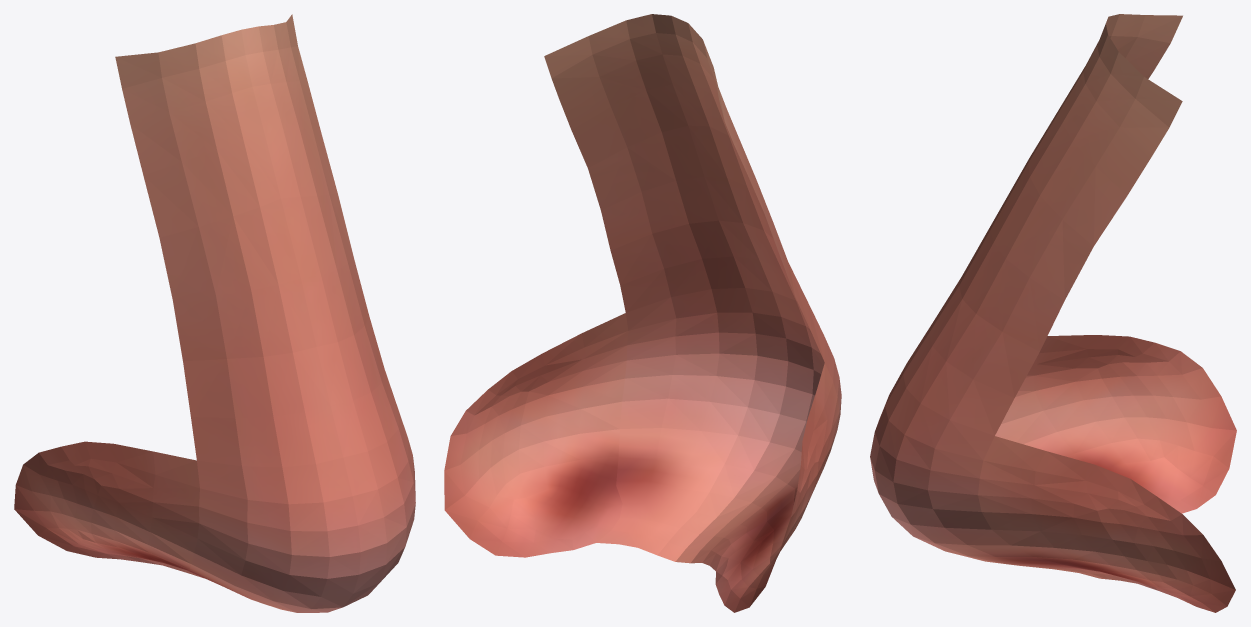
The model's file is euro-fem-nostrils-thin.obj.
3 renders of one model, left to right at view 1: azimuth 30°, elevation 25°; view 2: azimuth 150°, elevation 25°; view 3: azimuth 270°, elevation 25°, orthographic.
Parts seen in each view (by area): view 1: euro-fem-nostrils-thi.001; view 2: euro-fem-nostrils-thi.001; view 3: euro-fem-nostrils-thi.001.
Boxes of the visible parts, <box> form: euro-fem-nostrils-thi.001: <box>14,14,415,612</box>; euro-fem-nostrils-thi.001: <box>444,14,841,612</box>; euro-fem-nostrils-thi.001: <box>870,14,1236,612</box>.
Bounding box in the file's own units: 0.1935 × 0.299 × 0.1806.
1 material, 1 textured.
